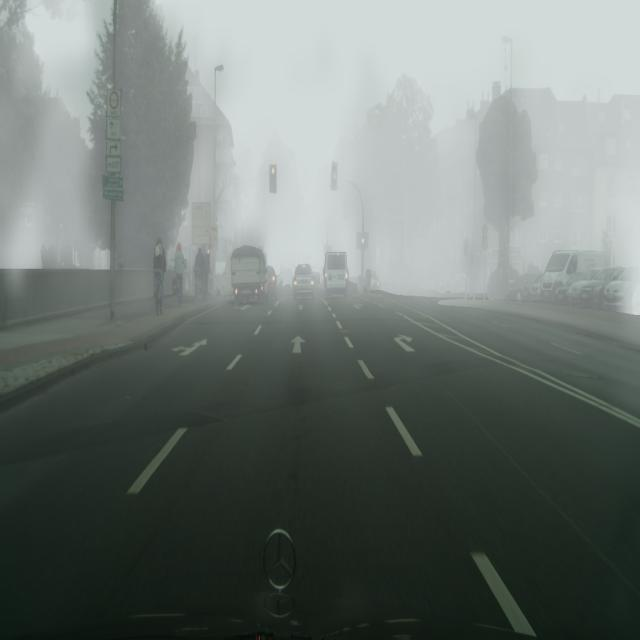car: (154, 270, 163, 315)
person: (153, 238, 166, 311), (174, 242, 186, 305), (194, 244, 204, 302), (202, 246, 210, 299)
train: (536, 248, 606, 303), (323, 252, 348, 299)
truck: (231, 244, 268, 305), (570, 267, 621, 309), (603, 268, 639, 313), (505, 269, 543, 302), (292, 262, 315, 301), (266, 266, 278, 301)
